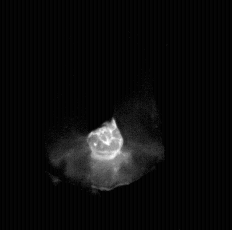arame: (87, 0, 114, 133)
poca: (46, 0, 166, 230)
